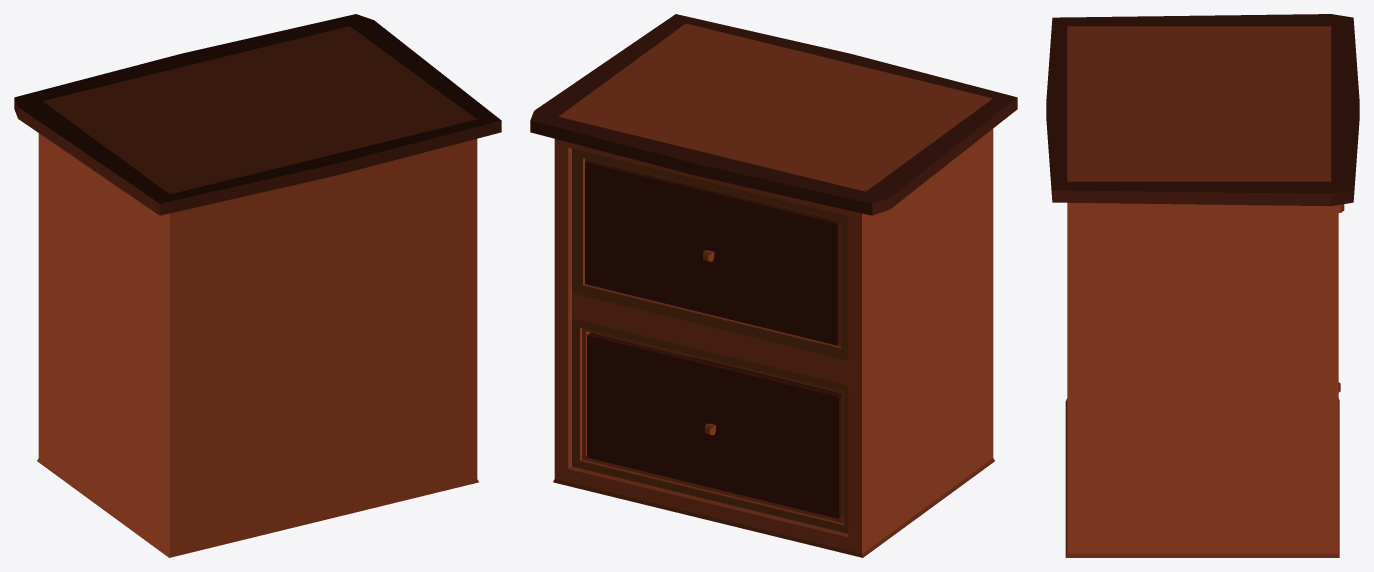
File: Nightstand 1.fbx
3 views of the same model, side by side, from view 1: azimuth 30°, elevation 25°; view 2: azimuth 150°, elevation 25°; view 3: azimuth 270°, elevation 25° (orthographic). The views are drawn at different scales.
Visible parts, largest first — view 1: Node 0; view 2: Node 0, Node 1, Node 2; view 3: Node 0.
Boxes of the visible parts, <box> form: Node 0: <box>14,14,501,557</box>; Node 0: <box>530,14,1017,557</box>; Node 1: <box>587,332,841,518</box>; Node 2: <box>585,160,840,345</box>; Node 0: <box>1046,14,1359,557</box>.
Bounding box in the file's own units: 0.6749 × 0.8925 × 0.9165.
